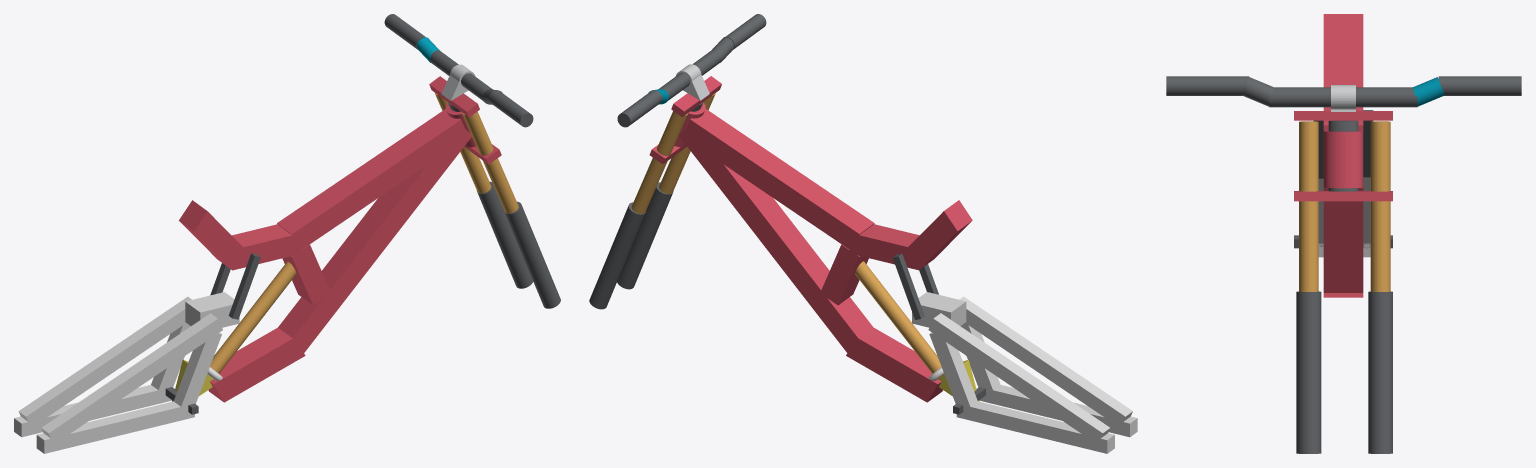
File: tinkercad-frame.glb
The picture shows the model from 3 angles, left to right: view 1: azimuth 30°, elevation 25°; view 2: azimuth 150°, elevation 25°; view 3: azimuth 270°, elevation 25°; orthographic projection. The views are drawn at different scales.
Visible parts, largest first — view 1: Mesh_Mesh_head_geo.001_lambert2SG.001; view 2: Mesh_Mesh_head_geo.001_lambert2SG.001; view 3: Mesh_Mesh_head_geo.001_lambert2SG.001.
Part boxes in pixels (<box>): Mesh_Mesh_head_geo.001_lambert2SG.001: <box>14,14,560,453</box>; Mesh_Mesh_head_geo.001_lambert2SG.001: <box>589,14,1137,453</box>; Mesh_Mesh_head_geo.001_lambert2SG.001: <box>1166,14,1521,453</box>.
Size of the model in its own units: 79 by 40 by 35.9.
